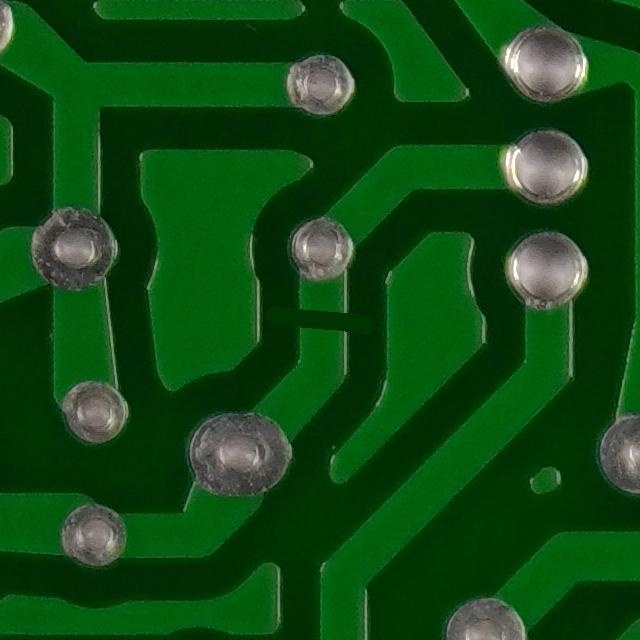open_circuit: (278, 291, 362, 349)
